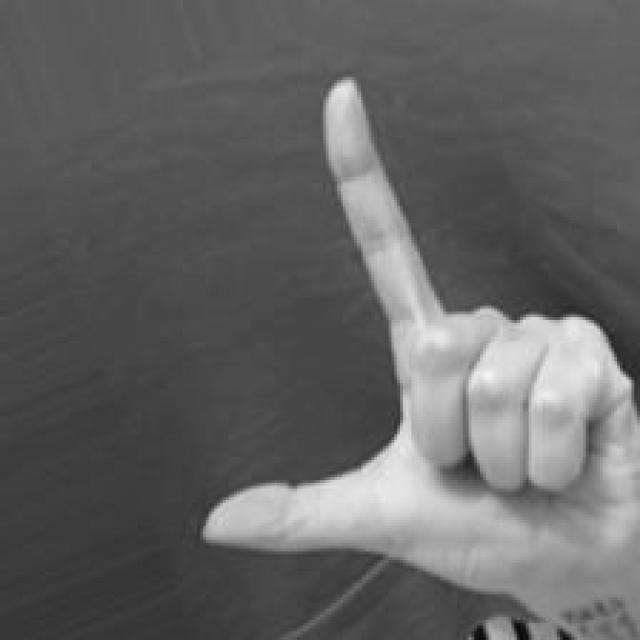L: (194, 67, 640, 621)
